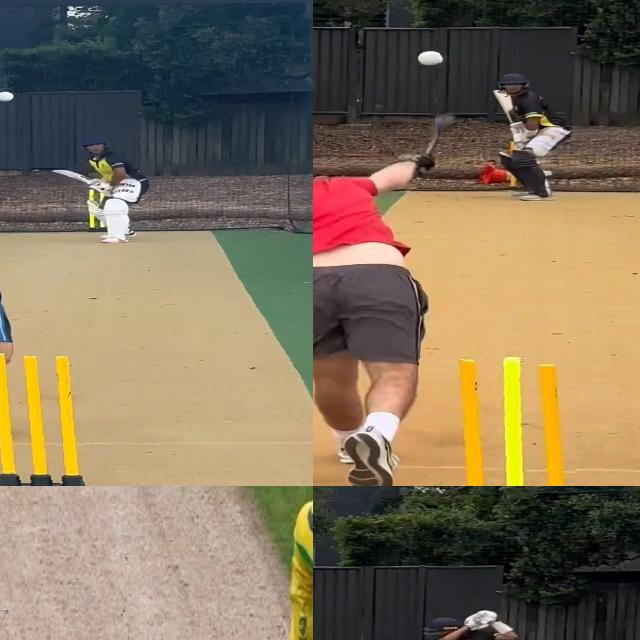Cricket ball: (417, 49, 445, 67), (0, 89, 18, 103)
Stumps: (442, 357, 576, 486), (0, 351, 84, 486)
